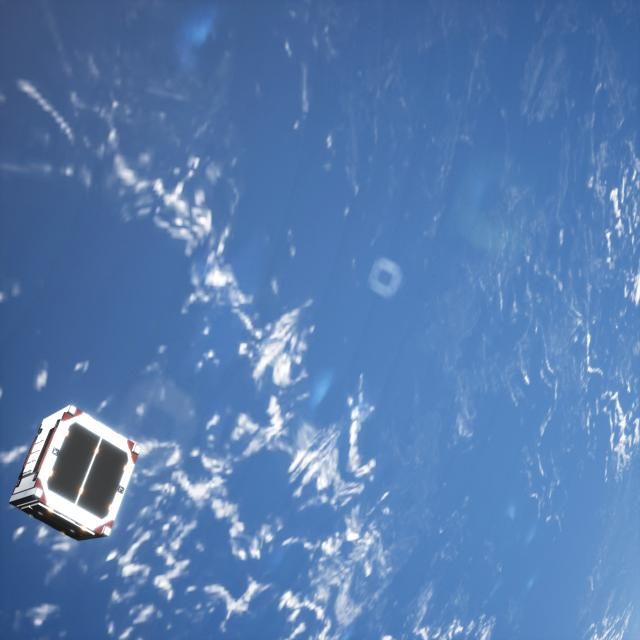medium_debris: (8, 400, 148, 552)
